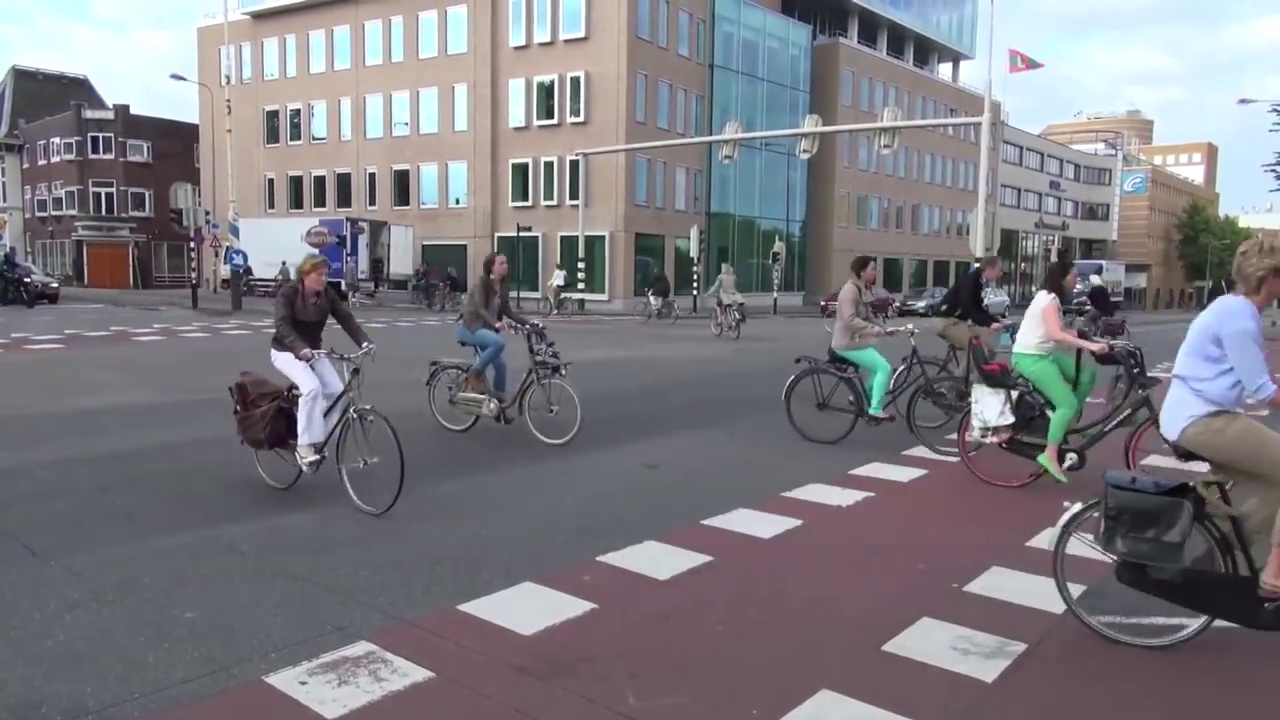cyclist_back: (698, 252, 743, 350)
cyclist_side: (1066, 228, 1272, 638), (965, 248, 1202, 484), (223, 259, 417, 518), (414, 248, 590, 444), (801, 248, 960, 441), (628, 263, 684, 328), (530, 261, 578, 315)
